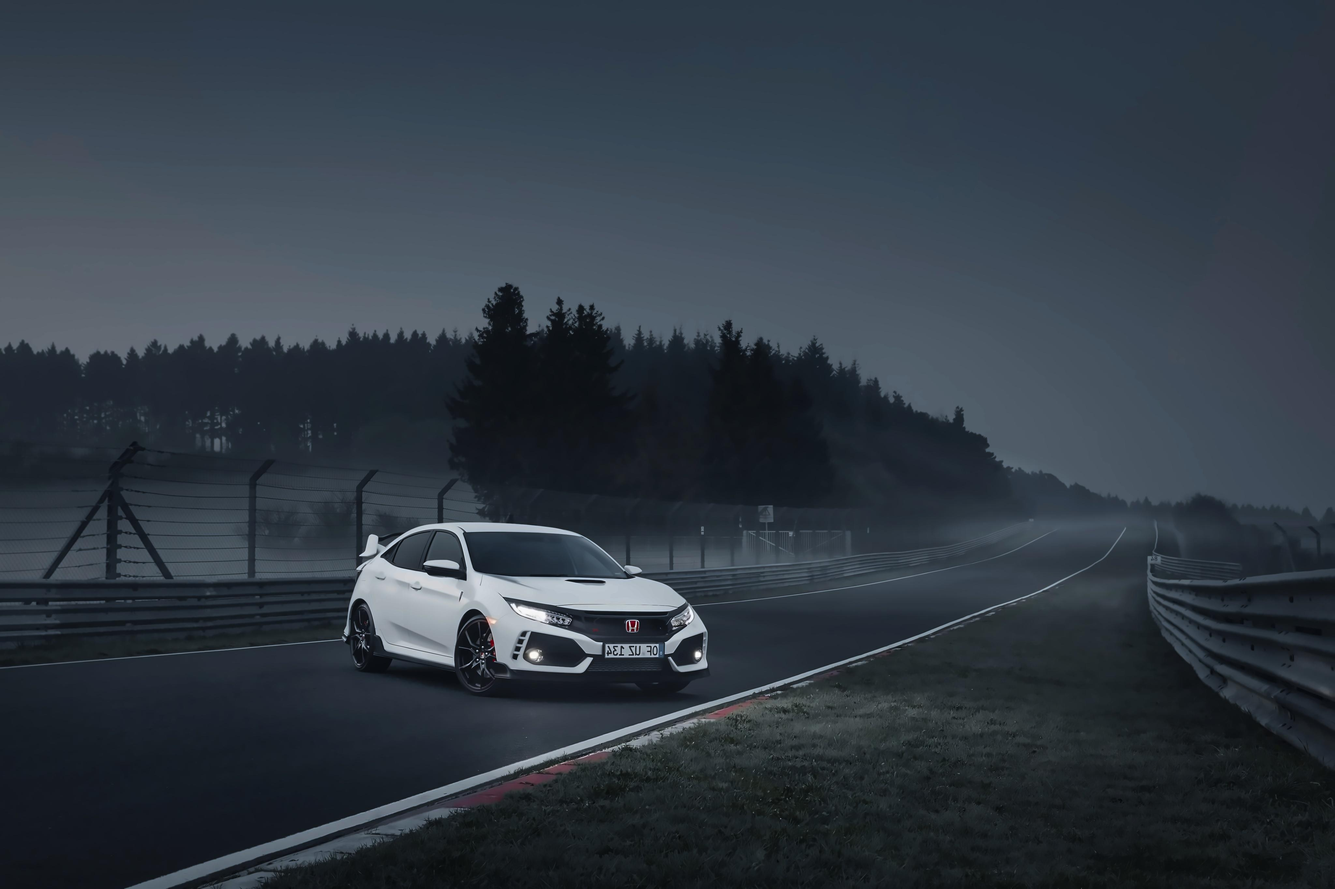Driver-s door - -F-R-: (402, 524, 465, 661)
Fender - -F-R-: (455, 567, 512, 639)
Fender - -R-R-: (345, 547, 387, 615)
Front bumper: (490, 609, 710, 682), (467, 568, 688, 616)
Headlight - -L-: (671, 602, 695, 636)
Headlight - -R-: (501, 596, 573, 629)
Passenger-s door - -R-R-: (371, 524, 432, 647)
Rear bumper: (338, 600, 357, 645)
Side bumper - -R-: (371, 639, 455, 677)
Side mirror - -L-: (622, 564, 643, 576)
Side mirror - -R-: (422, 559, 466, 580)
